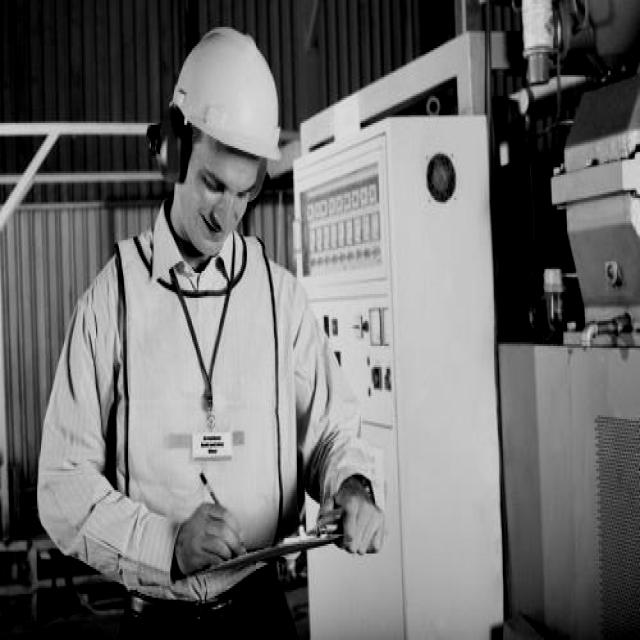face_nomask: (189, 131, 260, 269)
hand_noglove: (178, 496, 252, 588), (320, 469, 387, 559)
head_helmet: (174, 24, 288, 153)
person: (113, 25, 304, 630)
vest: (116, 238, 304, 573)
